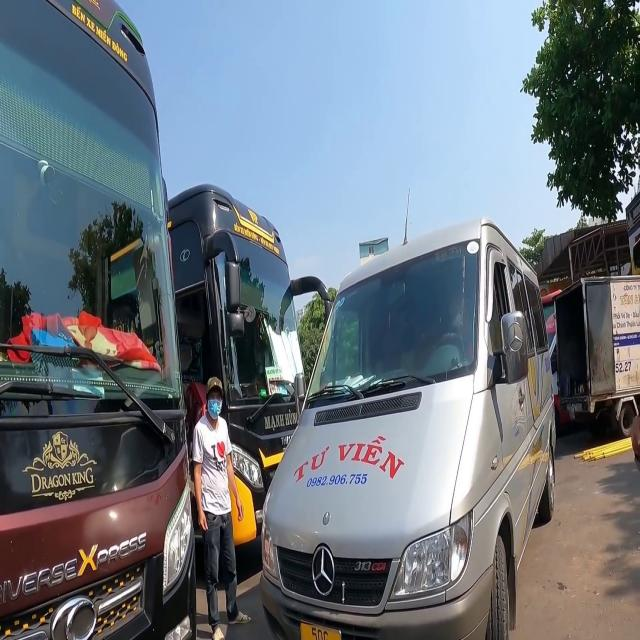bien_vang: (297, 620, 342, 640)
